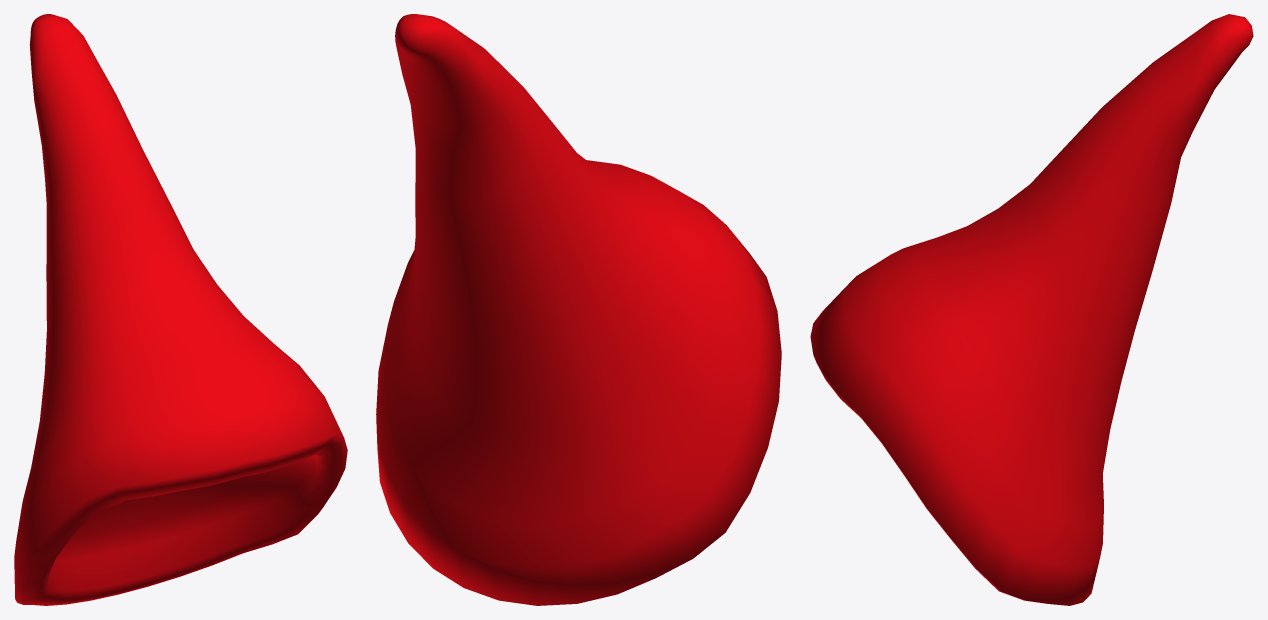
File: gnome_hat_normalized.fbx
3 views of the same model, side by side, from view 1: azimuth 30°, elevation 25°; view 2: azimuth 150°, elevation 25°; view 3: azimuth 270°, elevation 25° (orthographic). The views are drawn at different scales.
Parts seen in each view (by area): view 1: Circle; view 2: Circle; view 3: Circle.
Part boxes in pixels (box(x1,y1,x2,y2)): Circle: box(14, 14, 347, 605); Circle: box(376, 14, 781, 605); Circle: box(810, 14, 1253, 605).
Size of the model in its own units: 1147 by 1868 by 1332.
